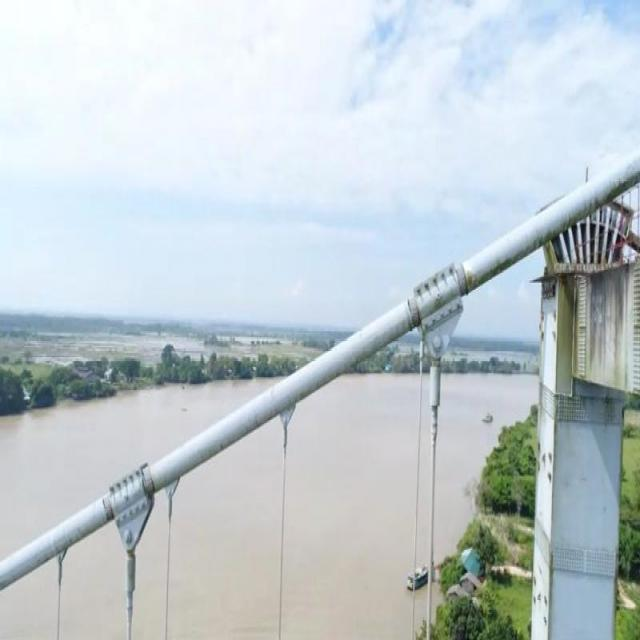Slippage: (407, 296, 421, 326), (457, 263, 468, 296), (142, 466, 154, 495), (102, 494, 114, 520)
